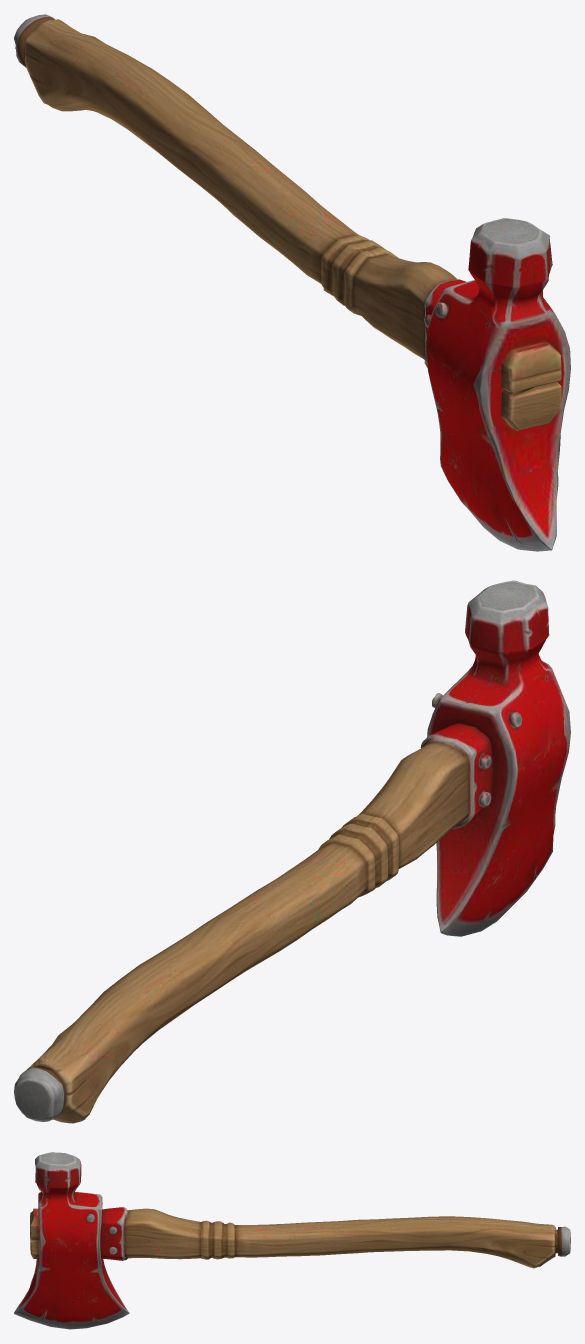
Rendered from fire_axe.glb.
3 views of the same model, one above another, from view 1: azimuth 30°, elevation 25°; view 2: azimuth 150°, elevation 25°; view 3: azimuth 270°, elevation 25° (orthographic). The views are drawn at different scales.
Parts seen in each view (by area): view 1: w_fire_axe; view 2: w_fire_axe; view 3: w_fire_axe.
Part boxes in pixels (box(x1,y1,x2,y2)): w_fire_axe: box(14, 14, 570, 551); w_fire_axe: box(14, 580, 570, 1123); w_fire_axe: box(14, 1152, 570, 1329).
Size of the model in its own units: 0.0816 by 0.272 by 0.8.
1 material, 1 textured.
